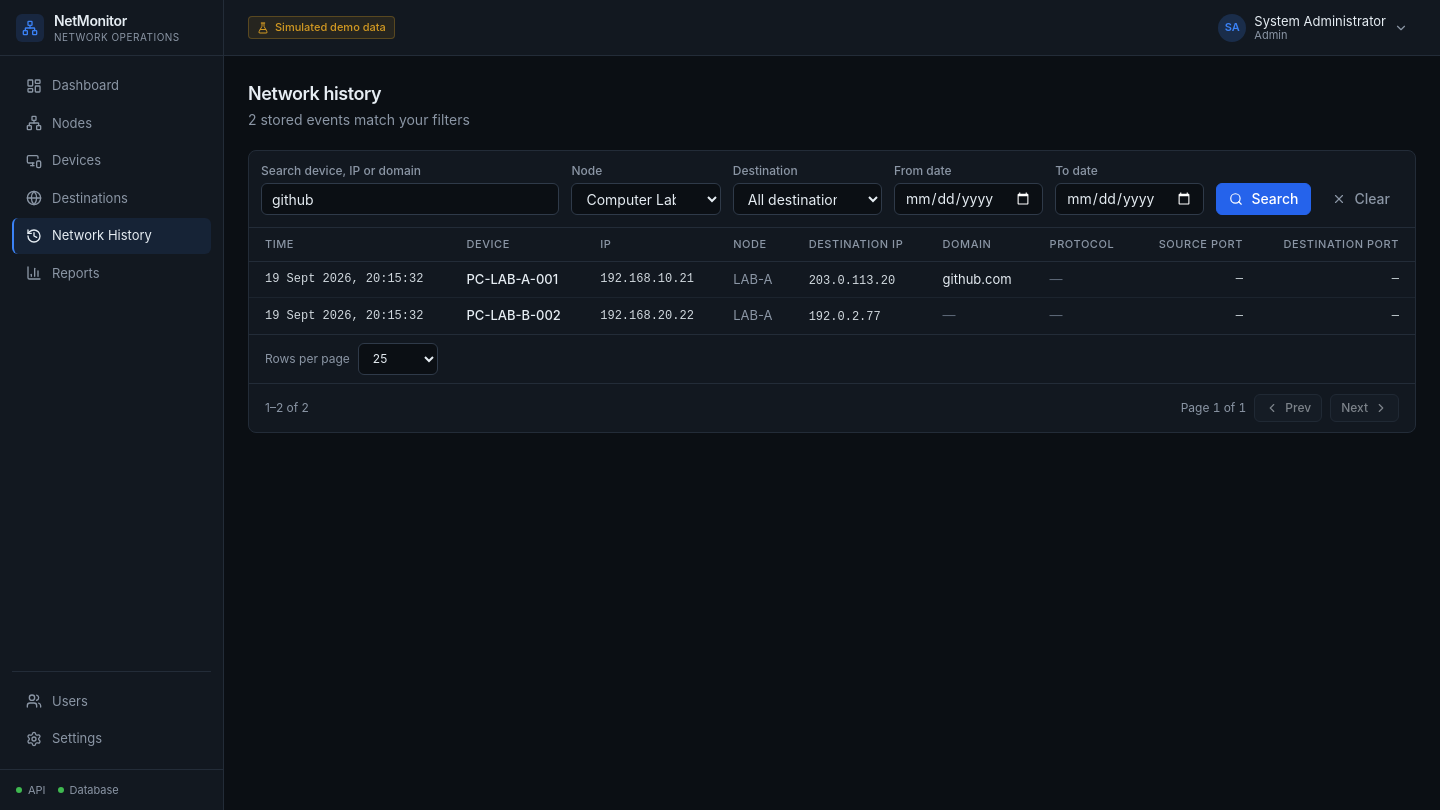
Scenario: HistoryPage › clears all filters
Click the button "Clear" at (1361, 199), box [1320, 183, 1403, 215]
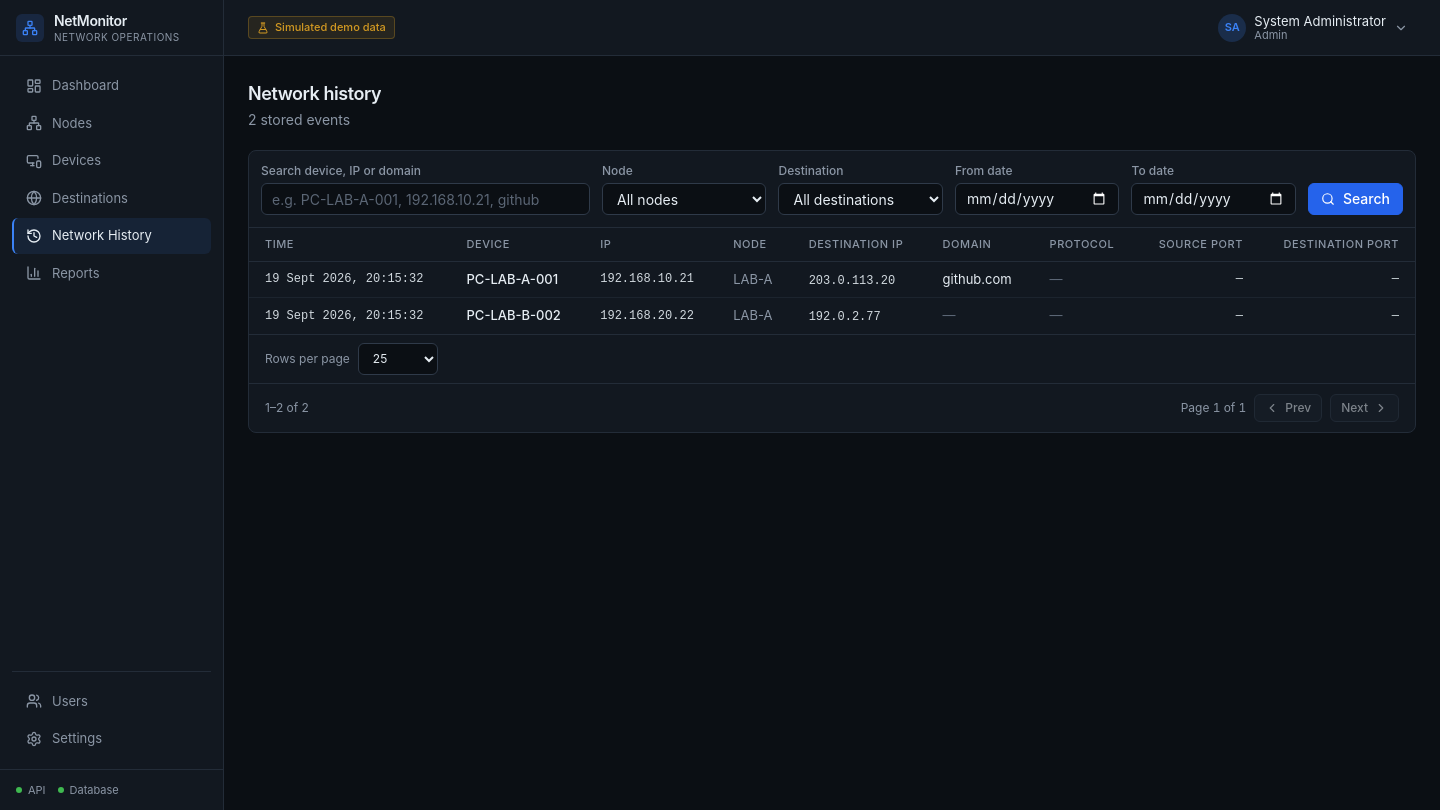
Expected: the search field labelled "Search device, IP or domain" is empty, [261, 183, 590, 215]
Expected: the button "Clear" is gone
